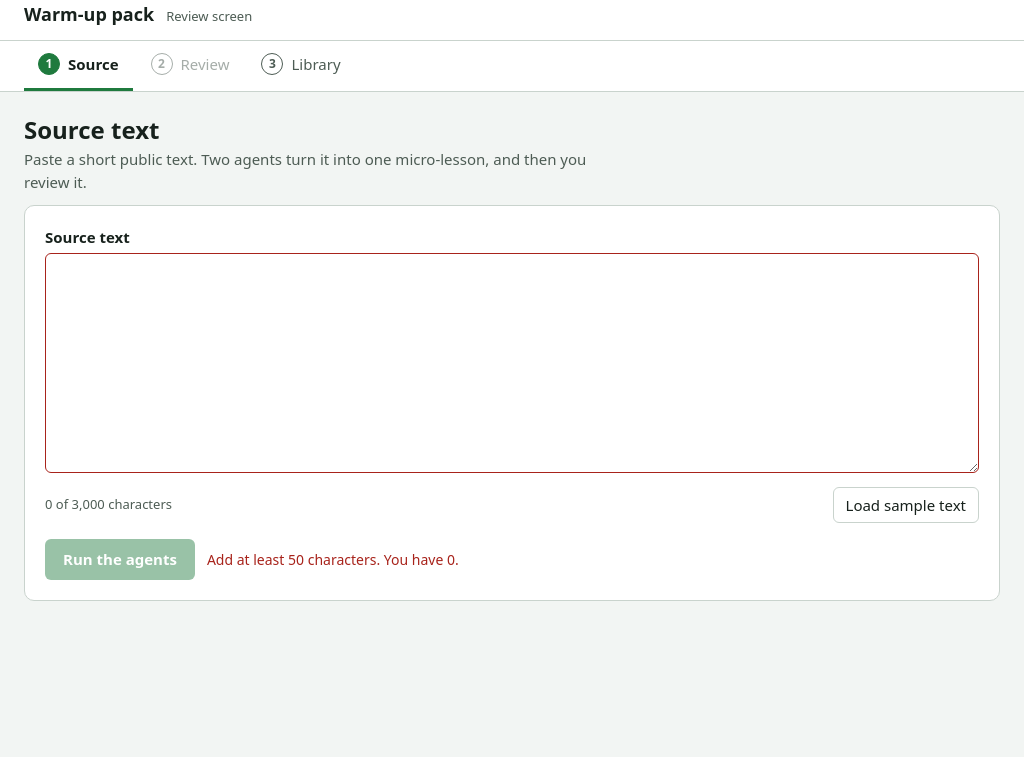
Review screen app › removes an approved lesson from the library (FR-7)
The image size is (1024, 757).
Click the button "Load sample text": x=906, y=505 [832, 487, 979, 523]
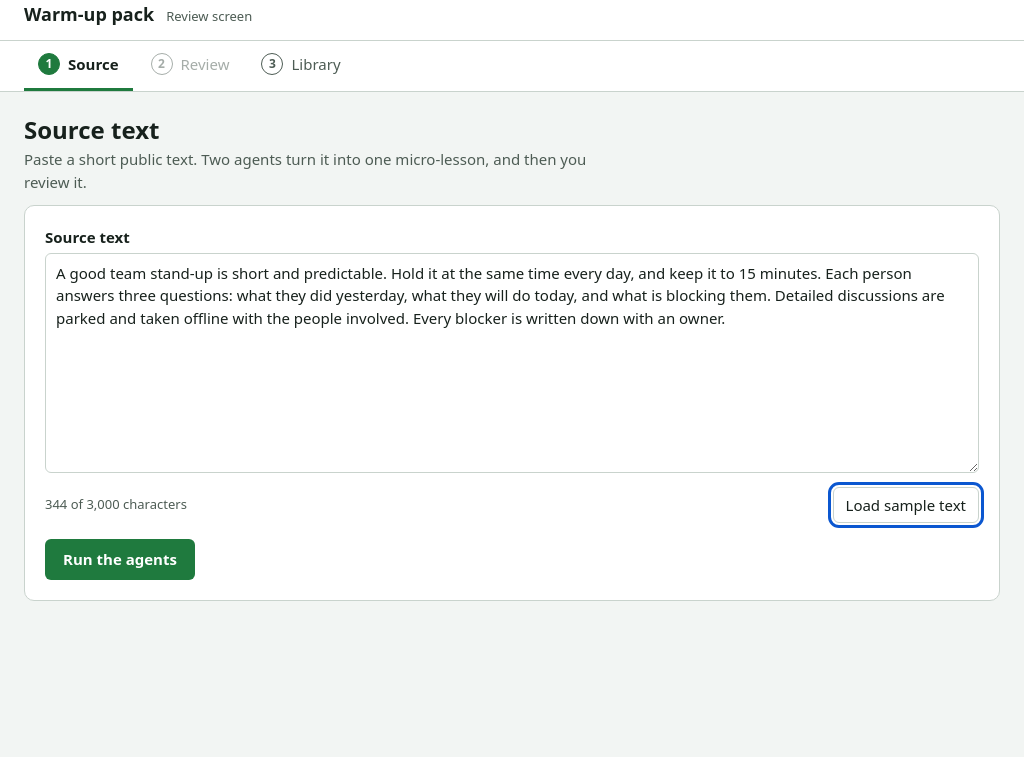
Click the button "Run the agents": x=120, y=560 [45, 539, 195, 580]
(page scrolled)
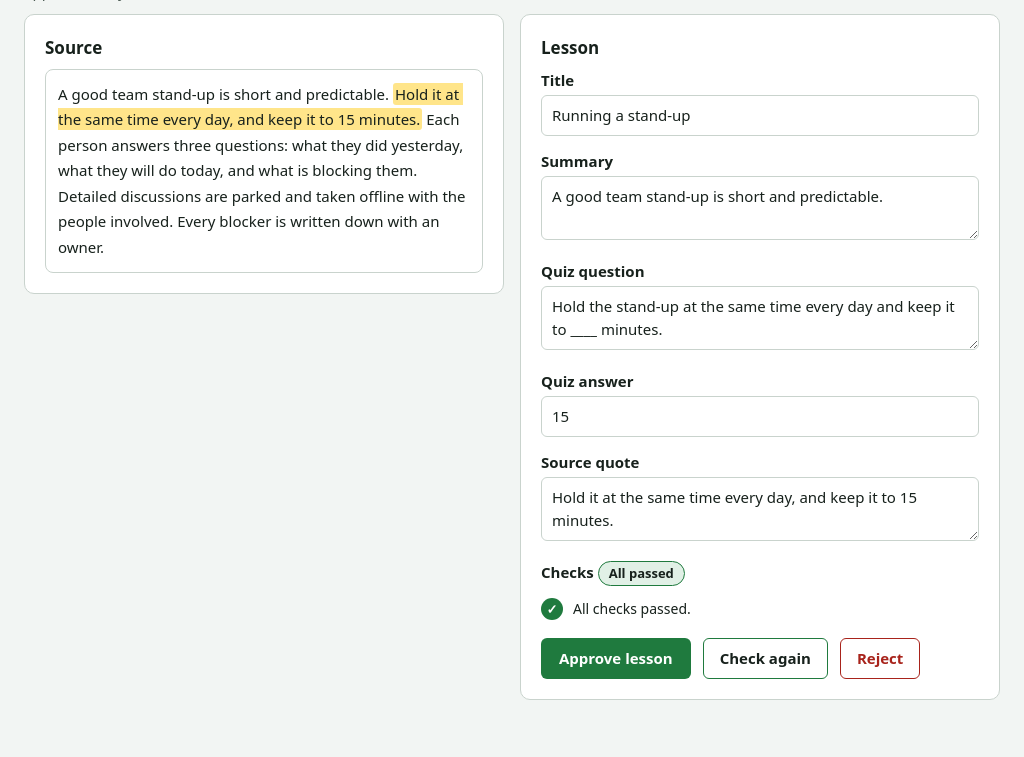
Click the button "Approve lesson": x=616, y=659 [541, 638, 691, 679]
(page scrolled)
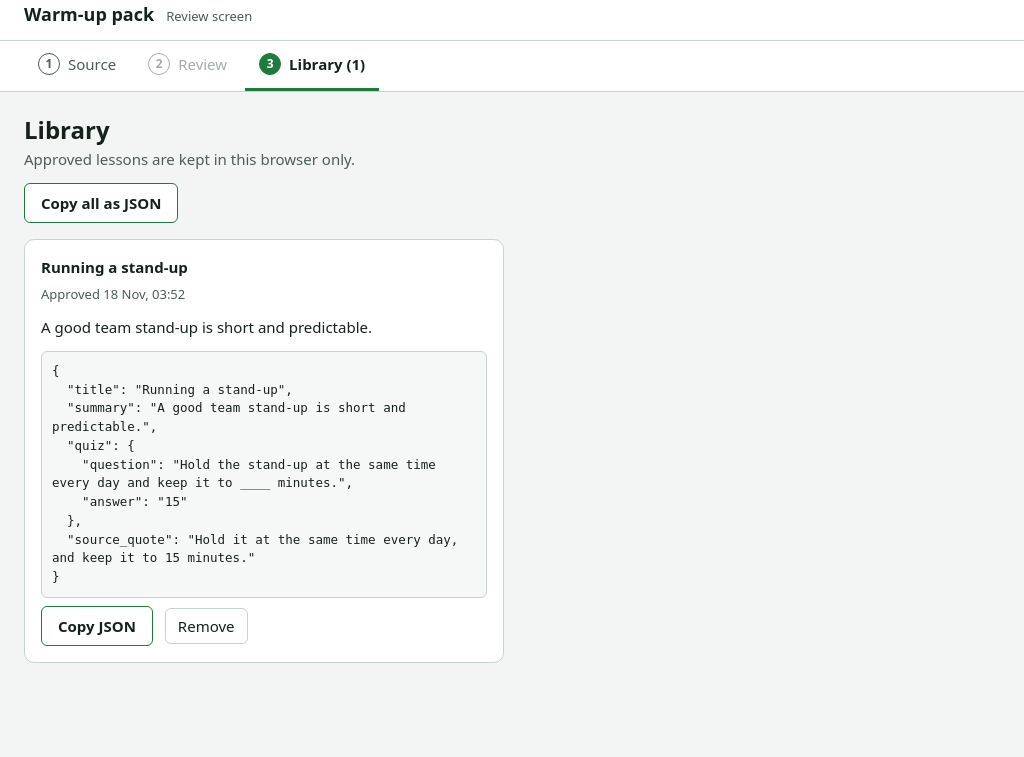
Check: the element that starts with "Running a stand-up" is shown, box [24, 239, 504, 663]
Click the button with aria-label "Remove Running a stand-up": x=206, y=626 [165, 608, 248, 644]
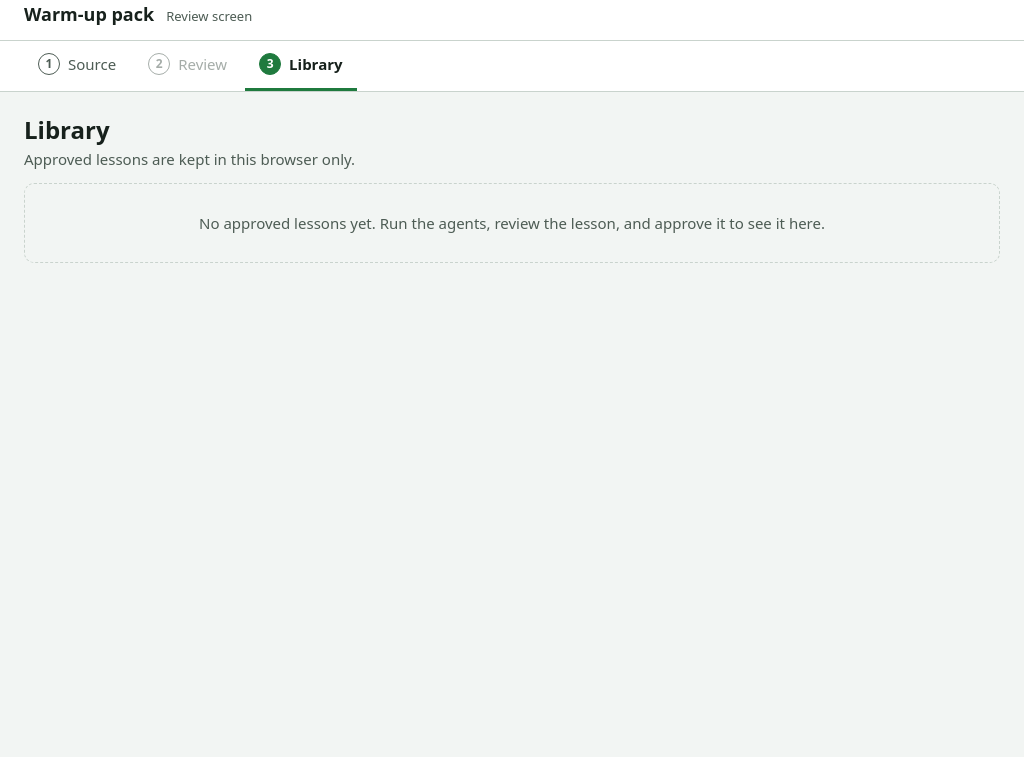
Check: the text "No approved lessons yet. Run the agents, review the lesson, and approve it to see it here." is shown, box [199, 213, 825, 233]
